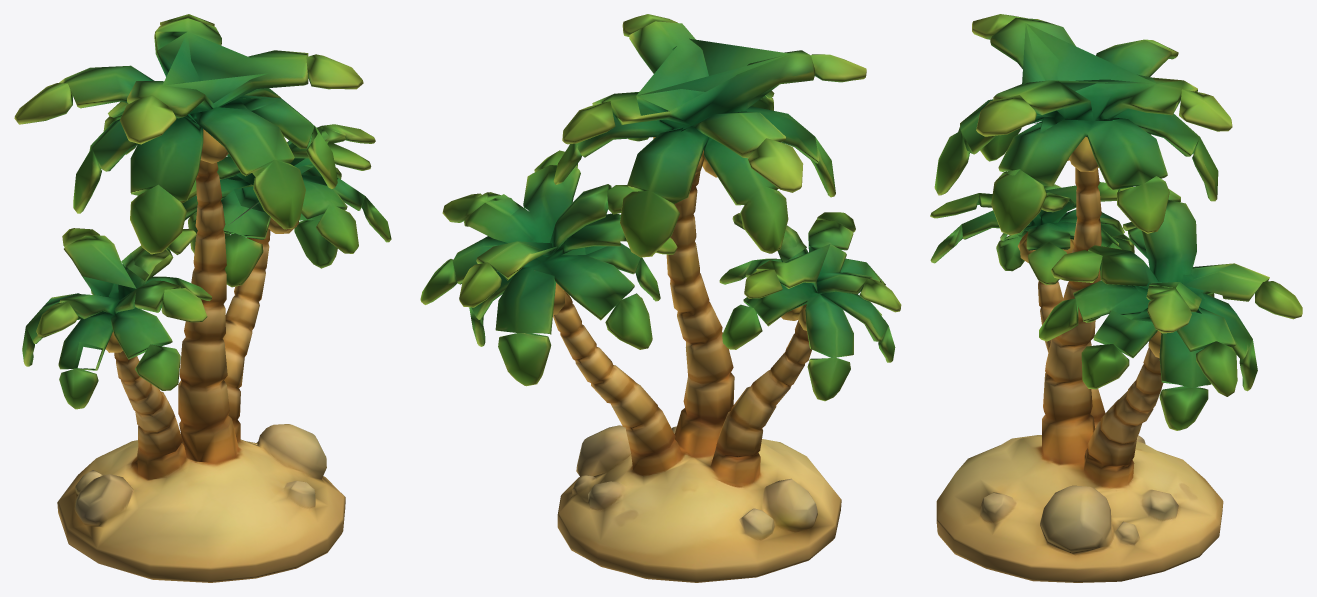
File: palm_cluster.glb
3 views of the same model, side by side, from view 1: azimuth 30°, elevation 25°; view 2: azimuth 150°, elevation 25°; view 3: azimuth 270°, elevation 25° (orthographic).
Visible parts, largest first — view 1: palm_cluster; view 2: palm_cluster; view 3: palm_cluster.
Part boxes in pixels (x1=…): palm_cluster: x1=14, y1=14, x2=391, y2=582; palm_cluster: x1=420, y1=14, x2=901, y2=582; palm_cluster: x1=930, y1=14, x2=1302, y2=582.
Bounding box in the file's own units: 26.54 × 30 × 21.55.
Materials: 1 (1 with a texture image).
